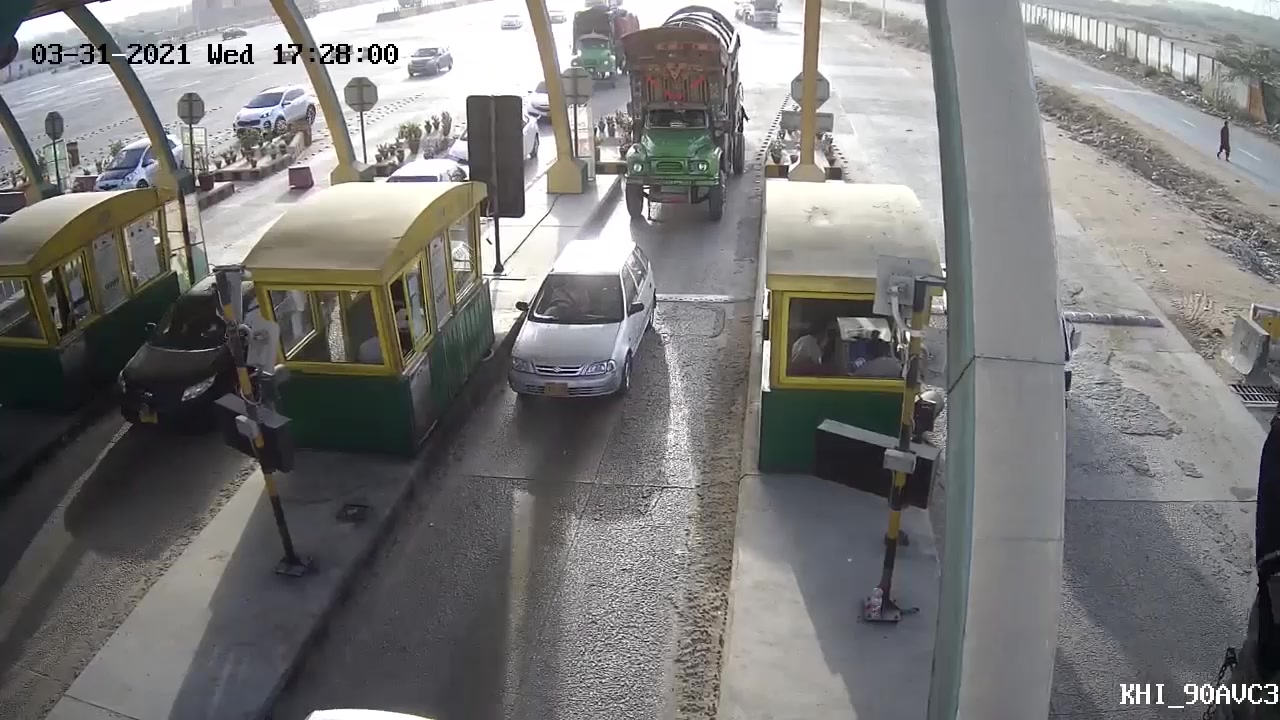F1: (489, 231, 661, 427)
F5: (610, 1, 754, 229)
